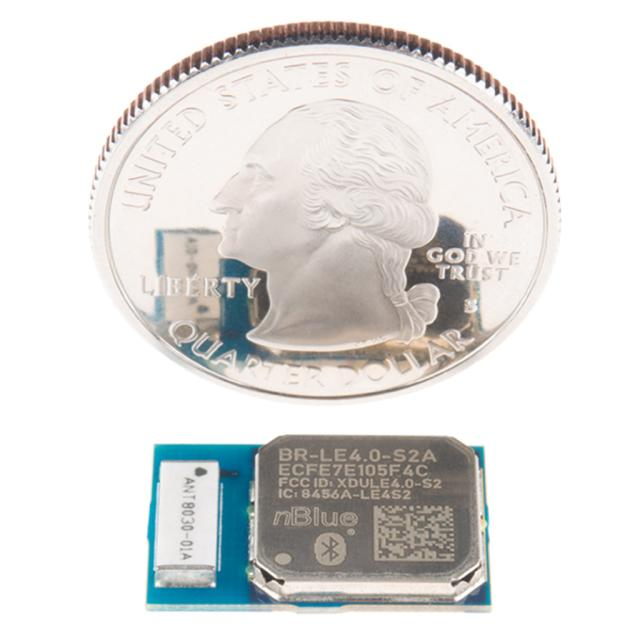Coin: (86, 17, 564, 399)
